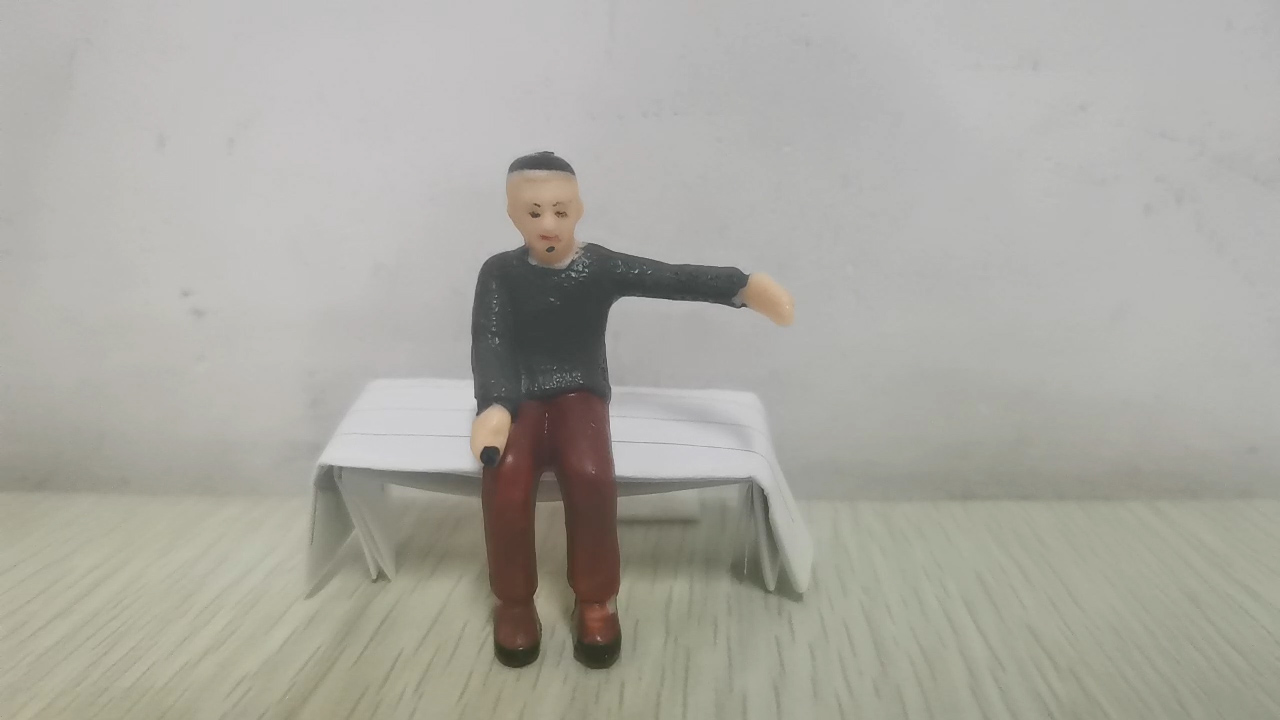person: (466, 149, 798, 670)
